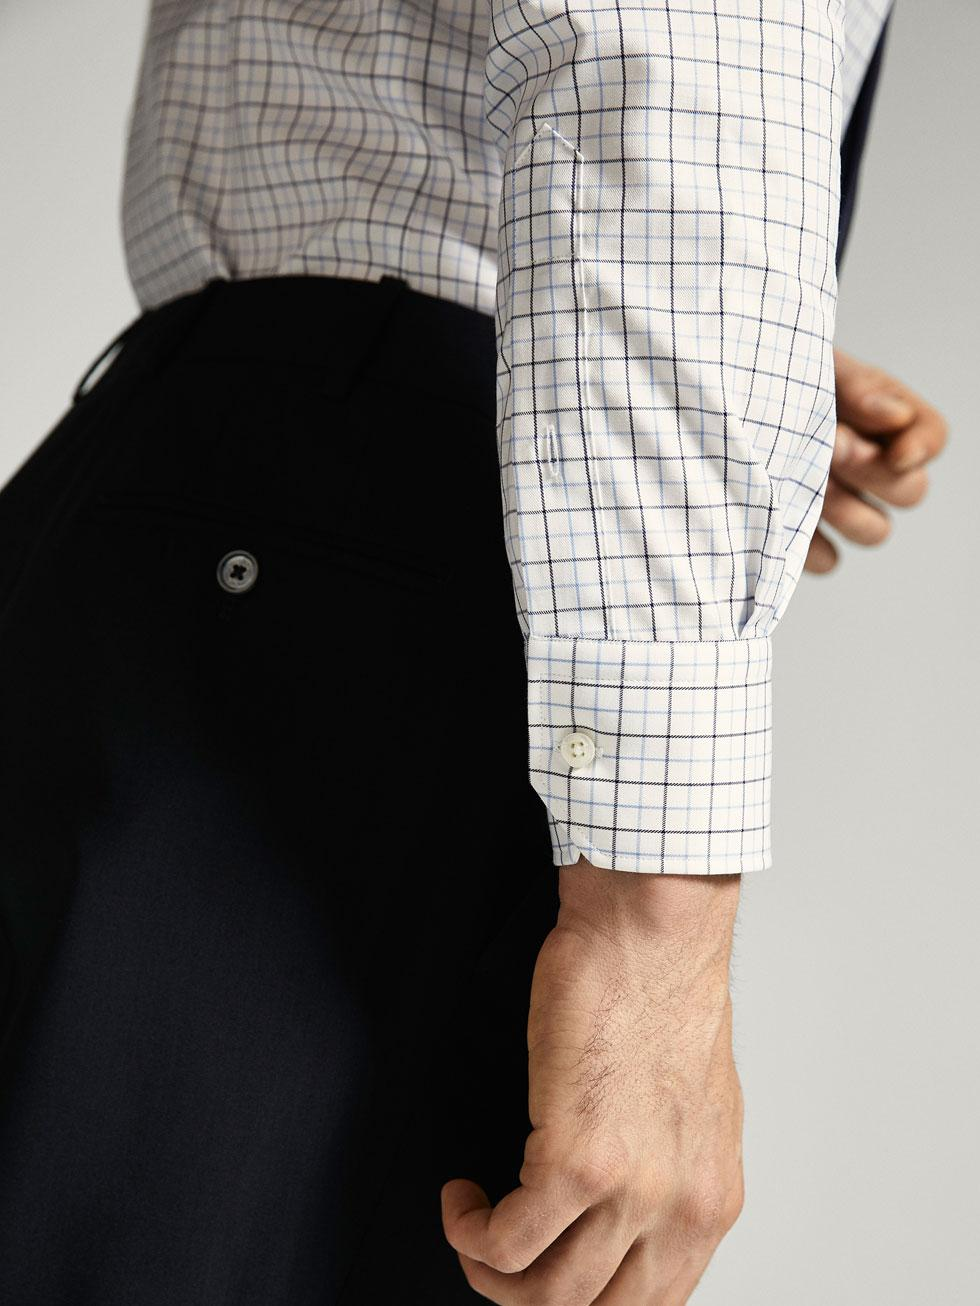teeshirt: (85, 1, 903, 909)
